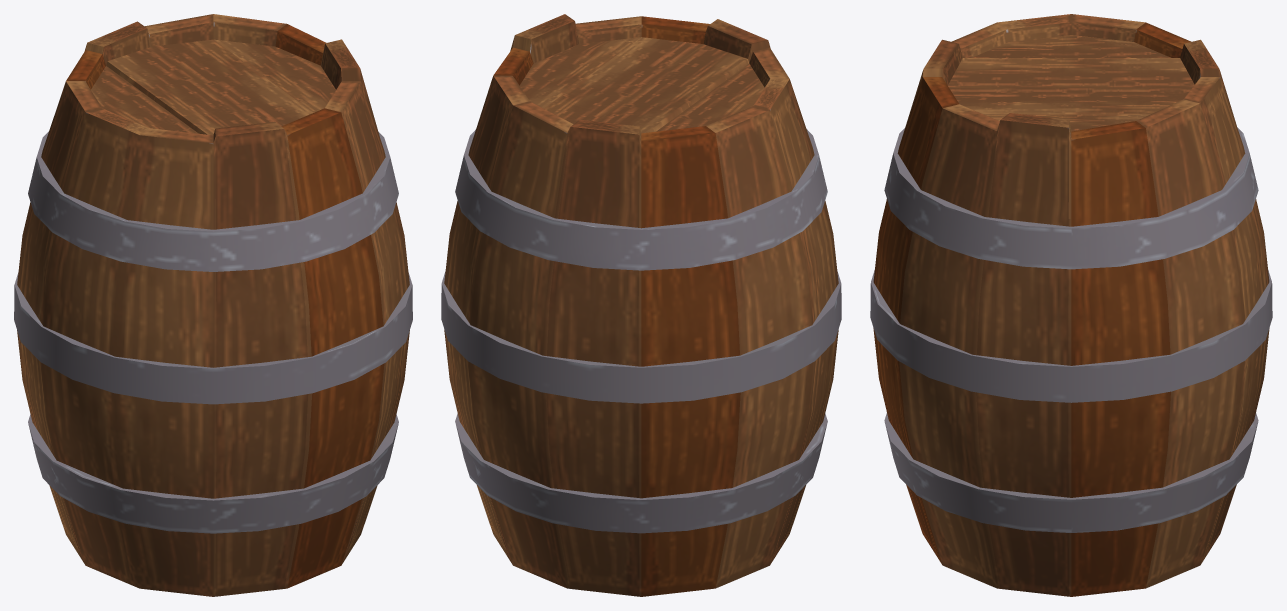
The model's file is barrel.glb.
3 views of the same model, side by side, from view 1: azimuth 30°, elevation 25°; view 2: azimuth 150°, elevation 25°; view 3: azimuth 270°, elevation 25° (orthographic).
Parts seen in each view (by area): view 1: Barrel; view 2: Barrel; view 3: Barrel.
Part boxes in pixels (x1,y1,x2,y2): Barrel: (14, 14, 412, 596); Barrel: (441, 14, 841, 596); Barrel: (870, 14, 1272, 596).
Size of the model in its own units: 0.698 by 0.898 by 0.698.
Materials: 2 (2 with a texture image).
